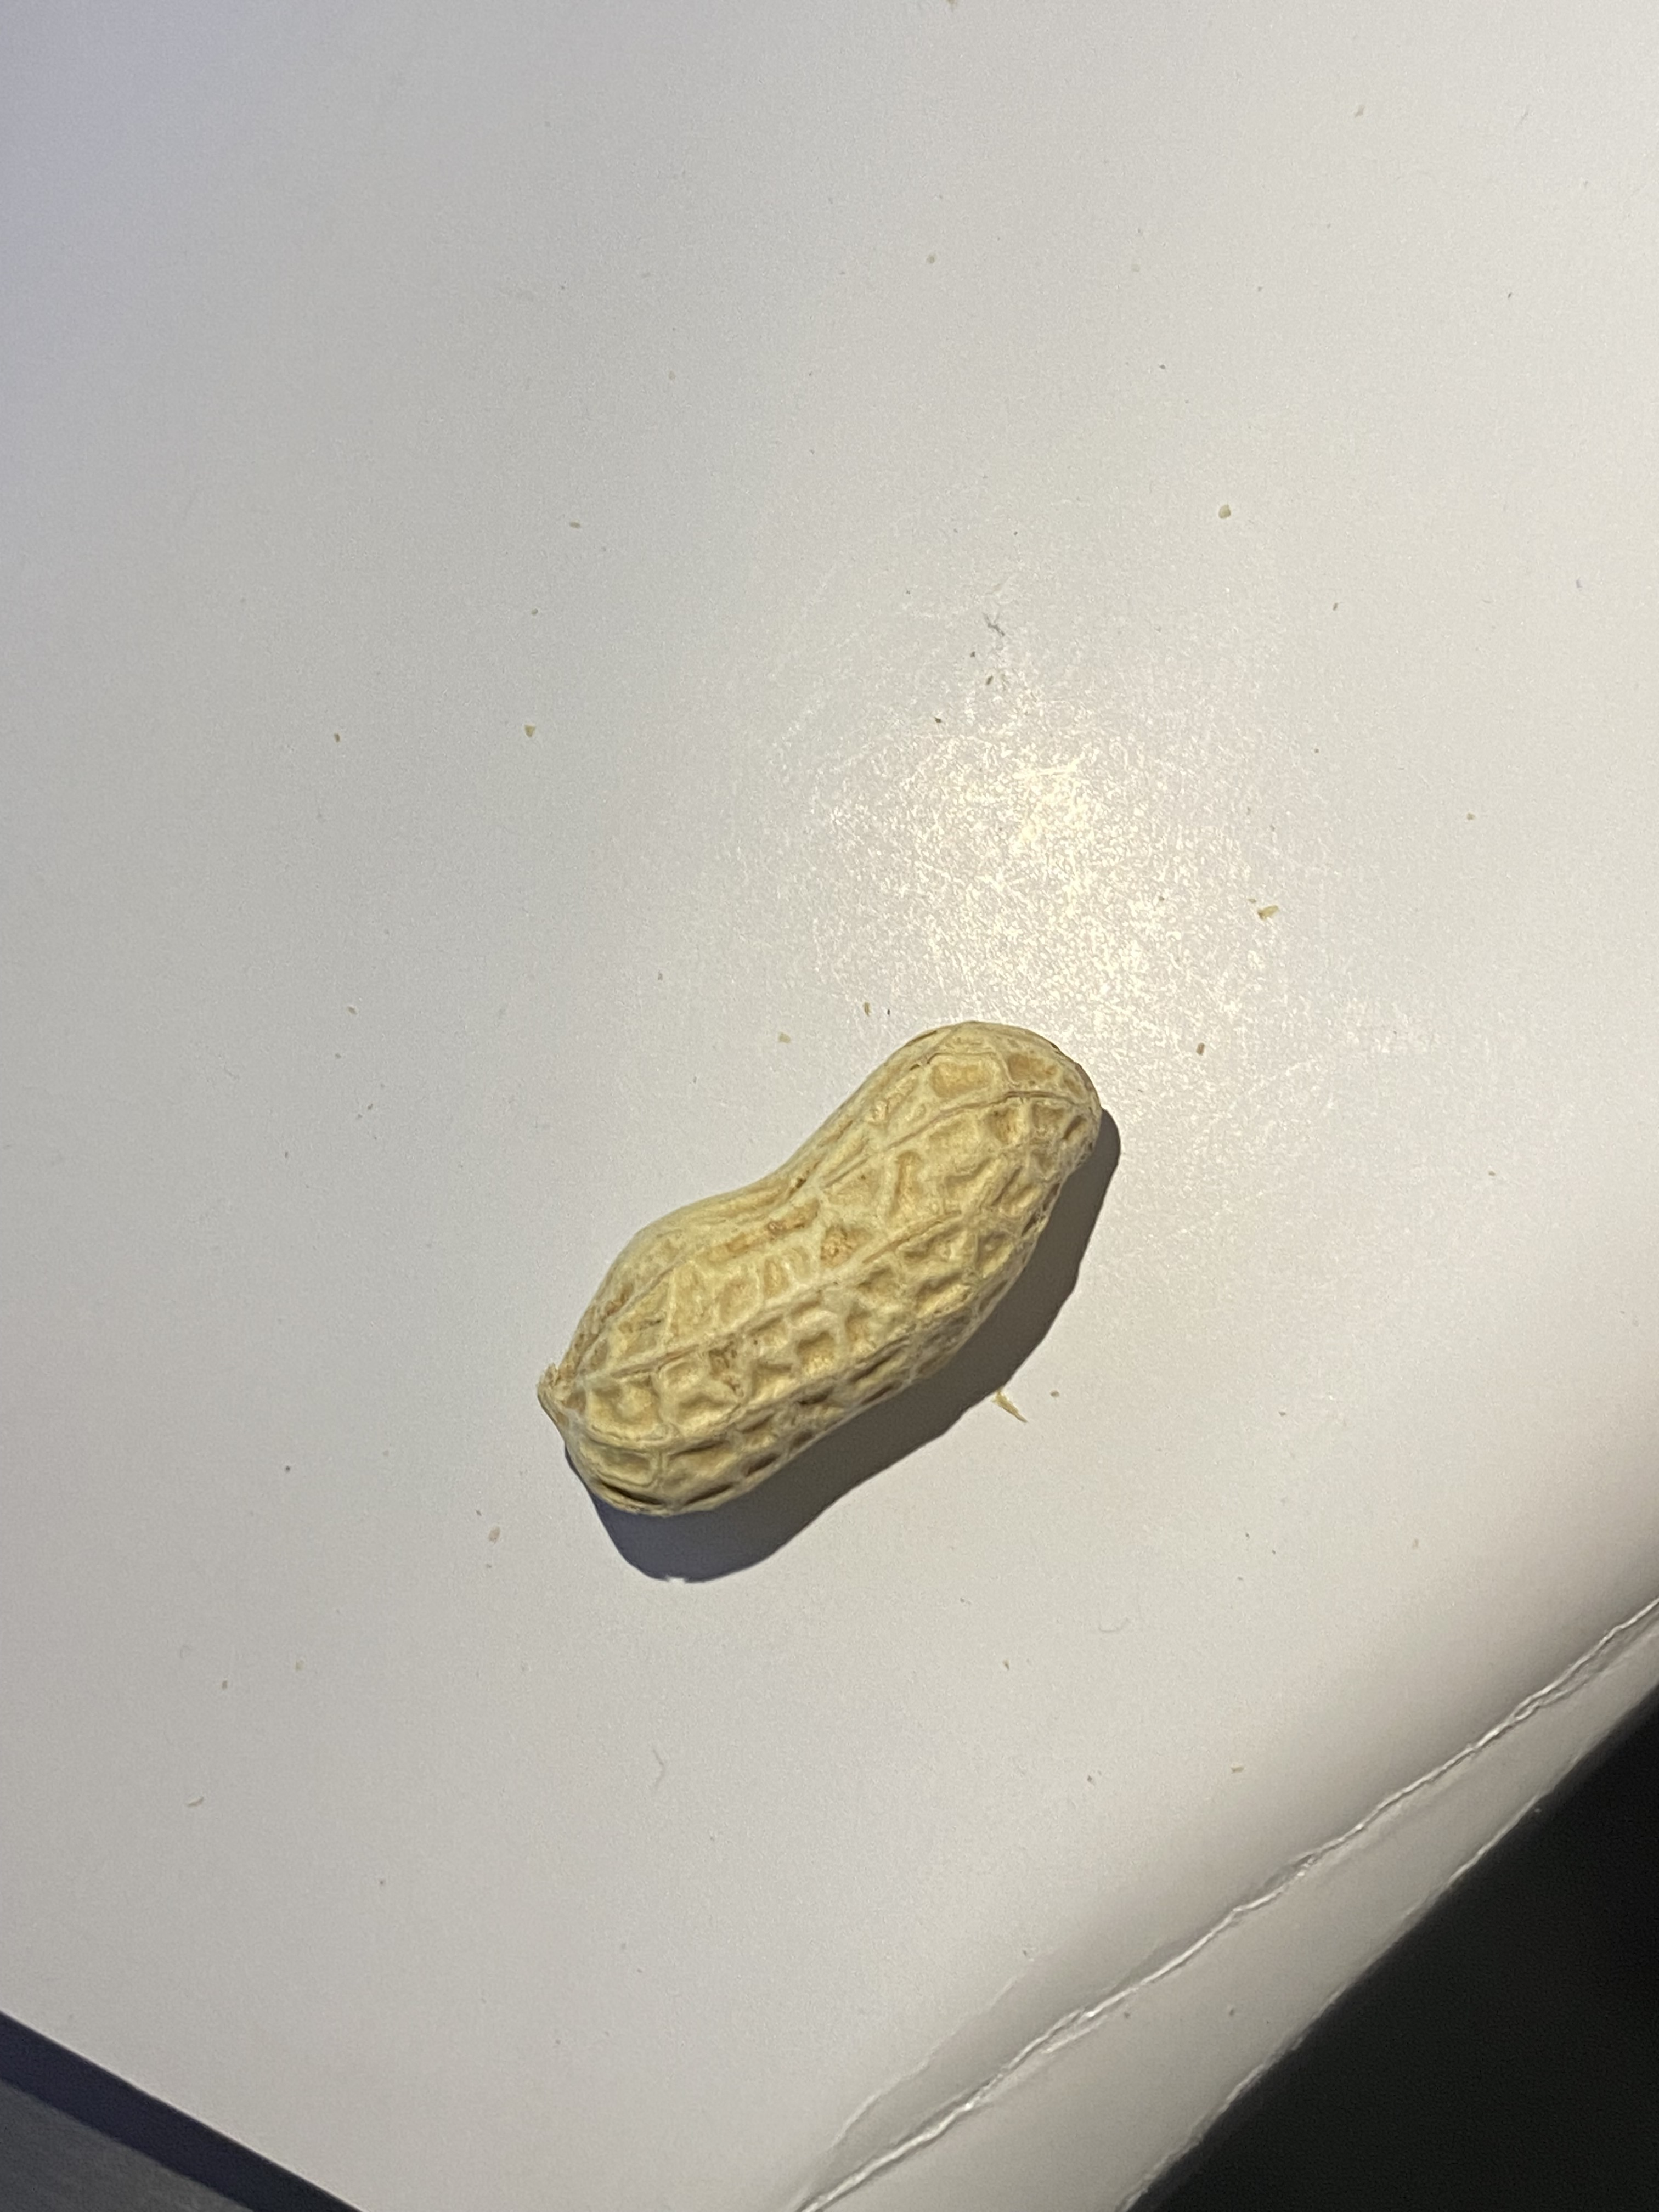kacang2: (512, 1014, 1129, 1527)
